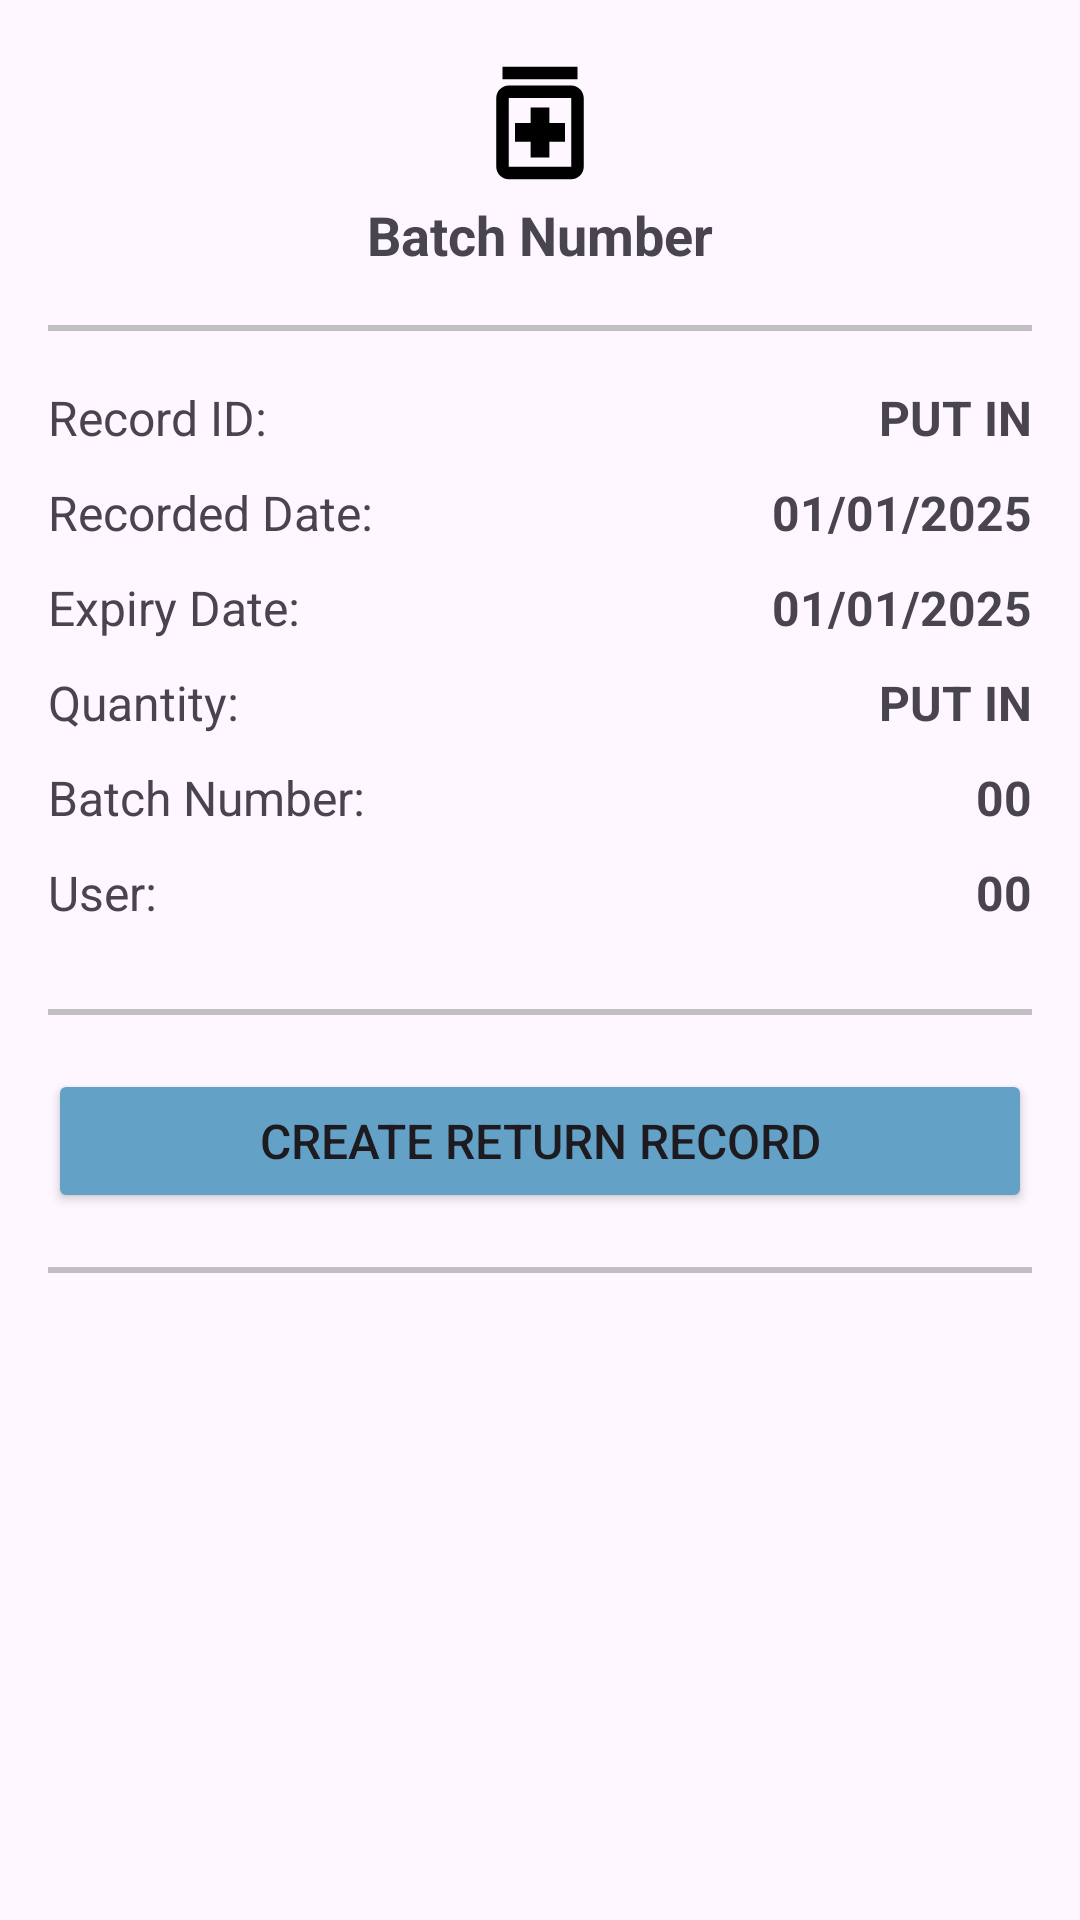

Icons on this 1080px×1920px Android screen, each with its box as region(x1, y1, x2, y2):
medication: region(496, 66, 584, 180)
